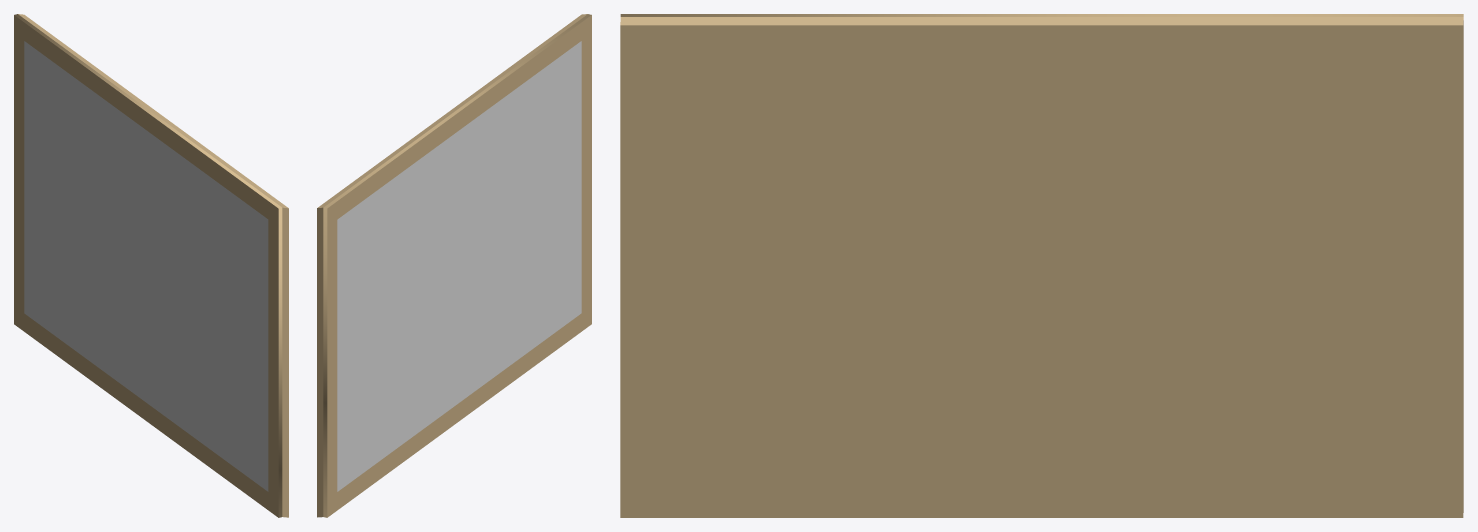
File: Pictures.003.fbx
3 views of the same model, side by side, from view 1: azimuth 30°, elevation 25°; view 2: azimuth 150°, elevation 25°; view 3: azimuth 270°, elevation 25° (orthographic). The views are drawn at different scales.
Visible parts, largest first — view 1: Pictures.003; view 2: Pictures.003; view 3: Pictures.003.
Boxes of the visible parts, x1,y1,x2,y2 form: Pictures.003: (14,14,288,517); Pictures.003: (317,14,591,517); Pictures.003: (620,14,1463,517).
Size of the model in its own units: 3.97 by 116 by 179.
